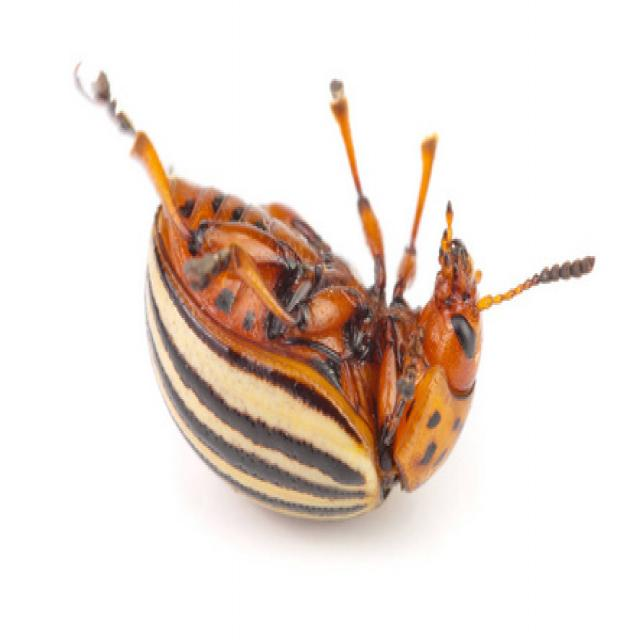ShuCaiHuaBanChong-Grown-: (129, 109, 511, 545)
